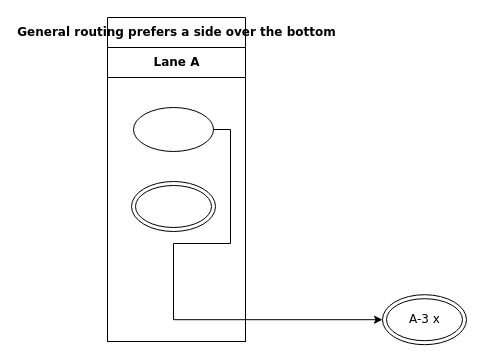
Image size: 484x363. Some labels were removed from this diagram. Here are the shapes that lost their labels. From the top down, the centre of each, then its label:
At (173,129): "A-1 x".
At (173,206): "A-2 x".
